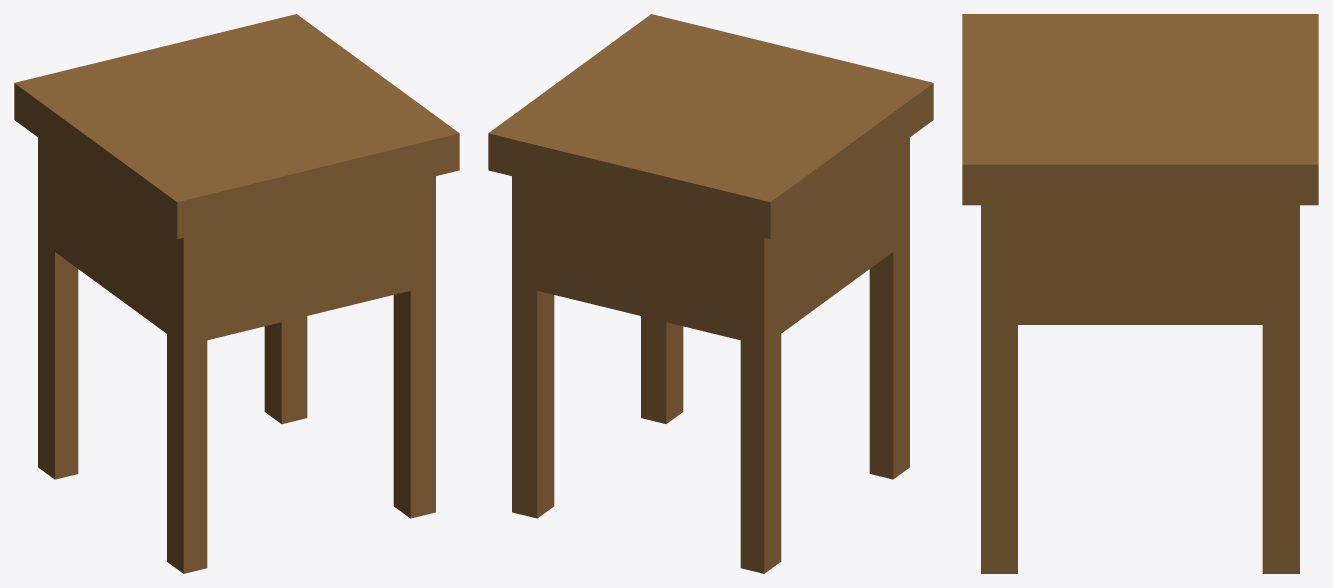
The model's file is SmallTable.fbx.
The picture shows the model from 3 angles, left to right: view 1: azimuth 30°, elevation 25°; view 2: azimuth 150°, elevation 25°; view 3: azimuth 270°, elevation 25°; orthographic projection. The views are drawn at different scales.
Visible parts, largest first — view 1: pCube3; view 2: pCube3; view 3: pCube3.
Boxes of the visible parts, x1=… form: pCube3: x1=14, y1=14, x2=459, y2=573; pCube3: x1=488, y1=14, x2=933, y2=573; pCube3: x1=962, y1=14, x2=1318, y2=573.
Bounding box in the file's own units: 4.51 × 5.82 × 4.51.
